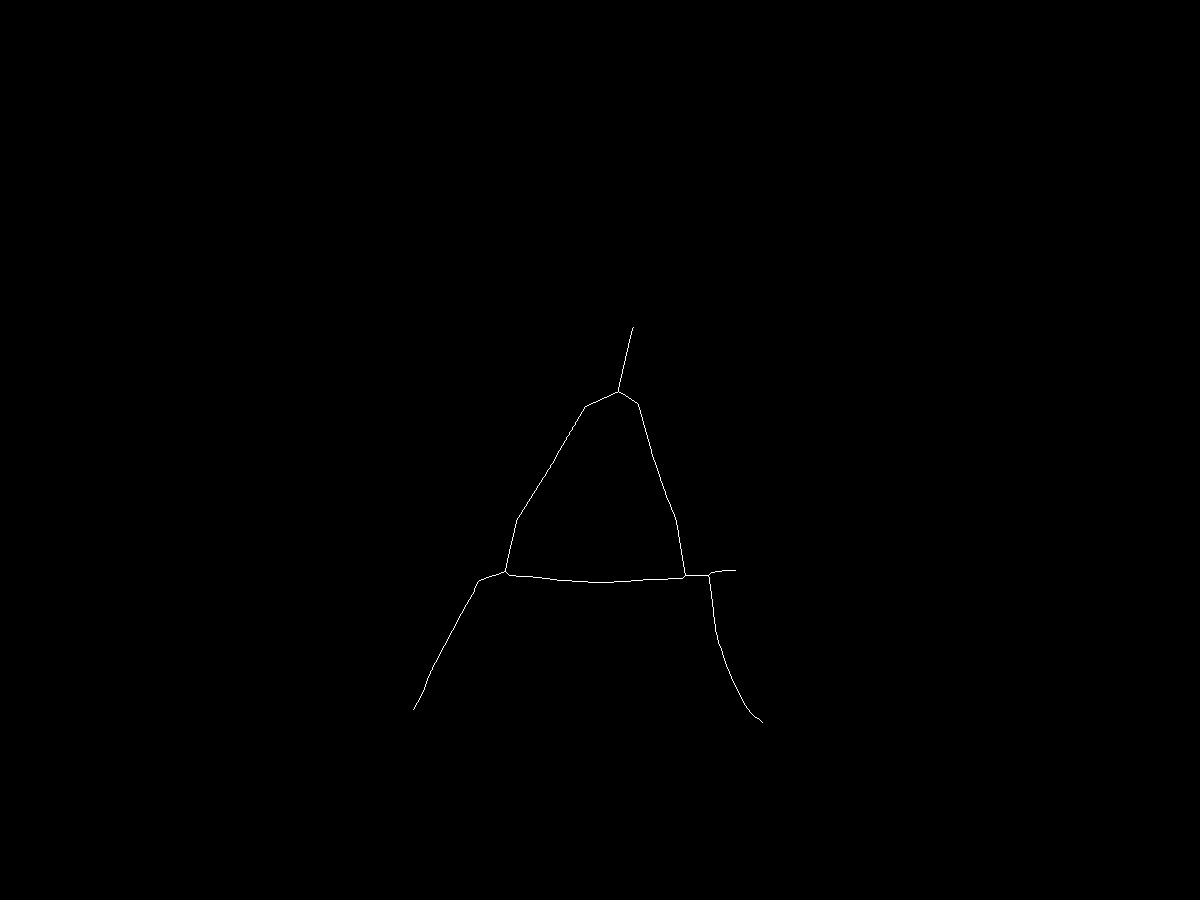dian1: (610, 386, 624, 400)
dian2: (498, 567, 514, 583)
dian3: (410, 696, 425, 711)
dian4: (699, 568, 719, 588)
dian5: (747, 717, 771, 741)
